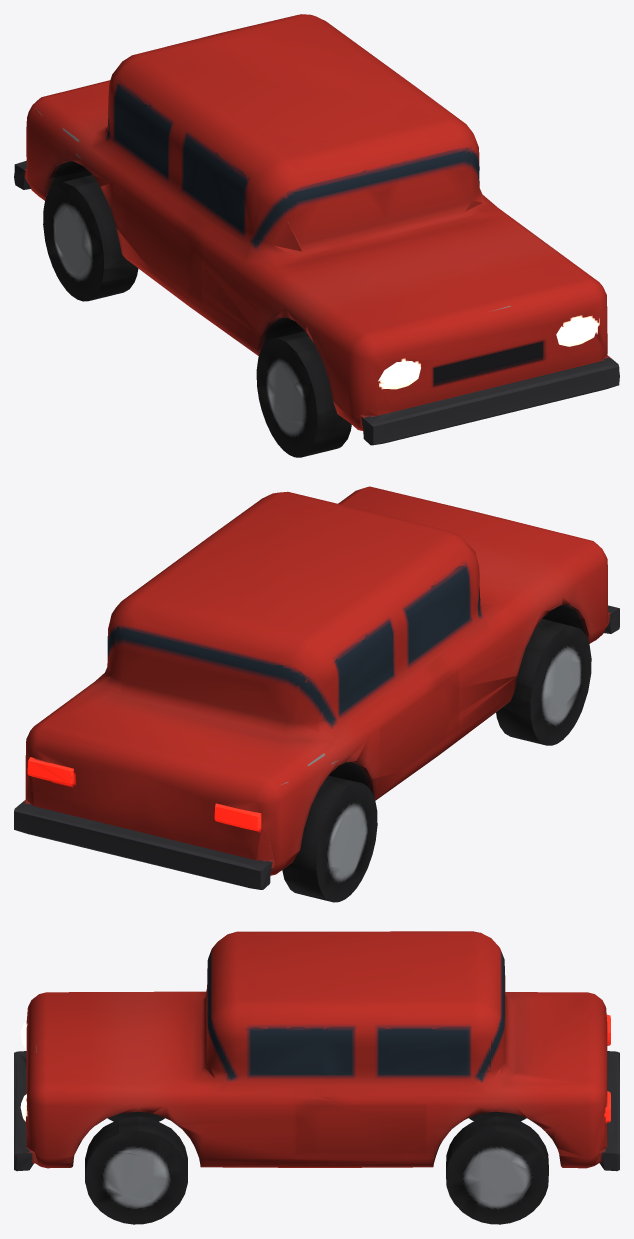
The model's file is car_edits.mid.glb.
3 renders of one model, top to bottom at view 1: azimuth 30°, elevation 25°; view 2: azimuth 150°, elevation 25°; view 3: azimuth 270°, elevation 25°, orthographic. The views are drawn at different scales.
Parts seen in each view (by area): view 1: car_edits; view 2: car_edits; view 3: car_edits.
Part boxes in pixels (box(x1,y1,x2,y2)): car_edits: box(14, 14, 619, 457); car_edits: box(14, 486, 619, 902); car_edits: box(14, 931, 619, 1224).
Bounding box in the file's own units: 1.72 × 1.42 × 3.86.
1 material, 1 textured.
